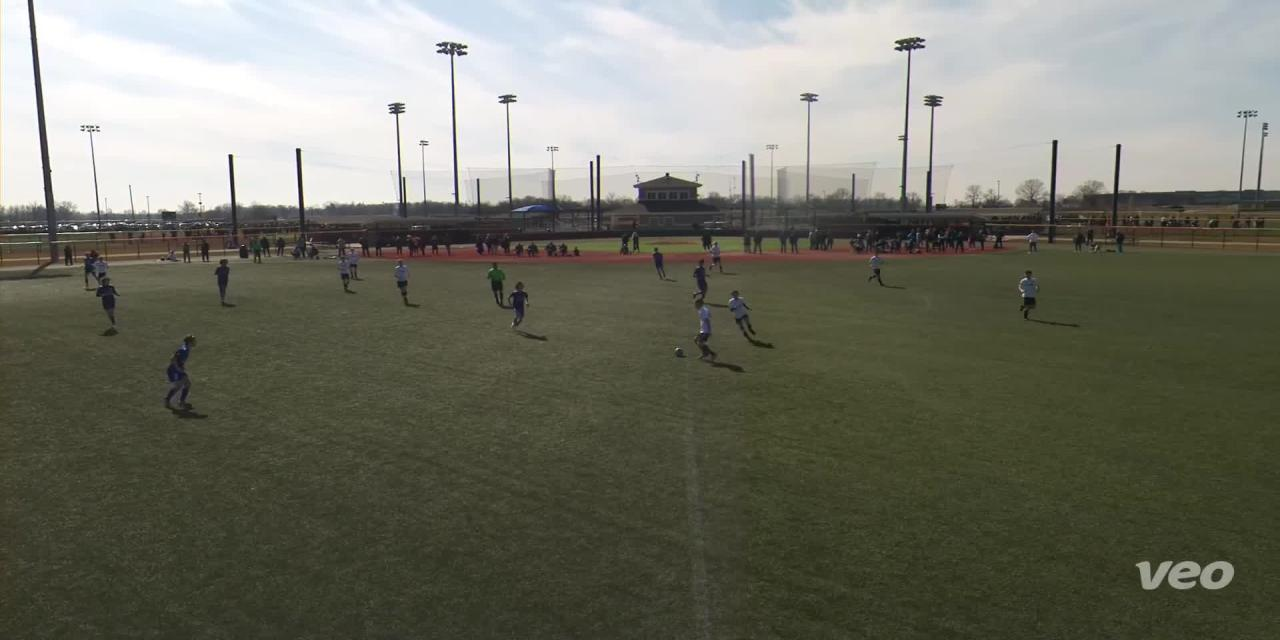sports ball: (668, 340, 688, 363)
